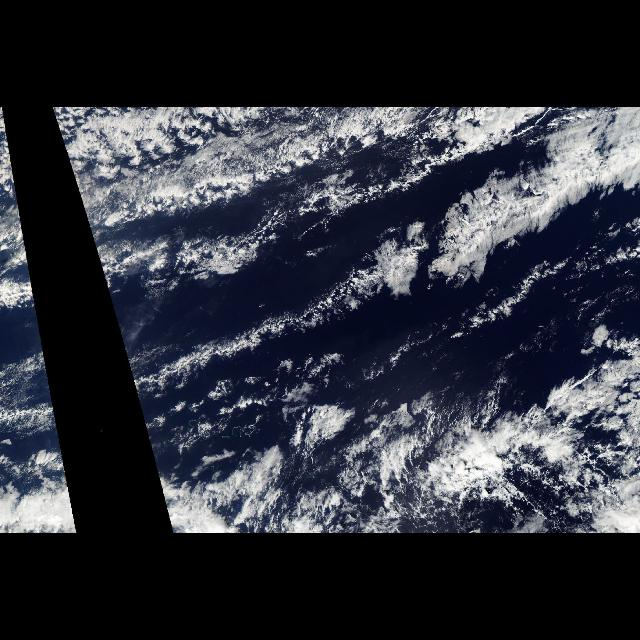Fish: (421, 107, 639, 283)
